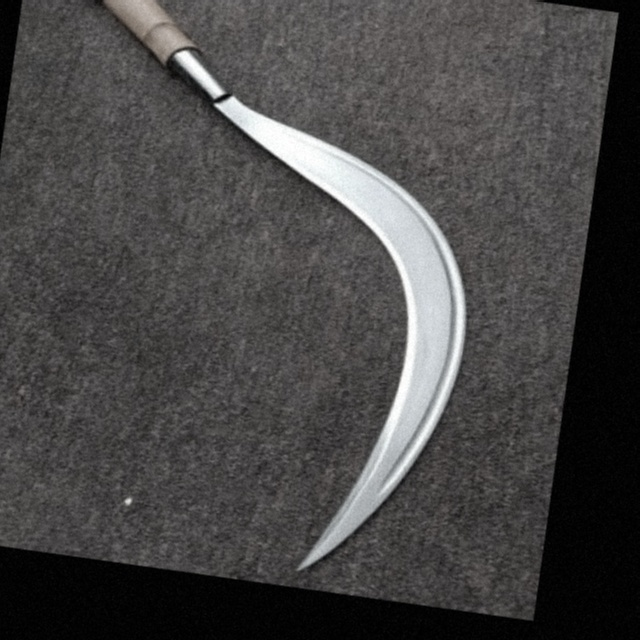Sharp-Object: (0, 0, 528, 592)
